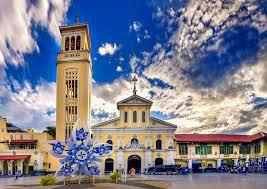manaoag_church_manaoag_pangasinan: (48, 13, 177, 175)
